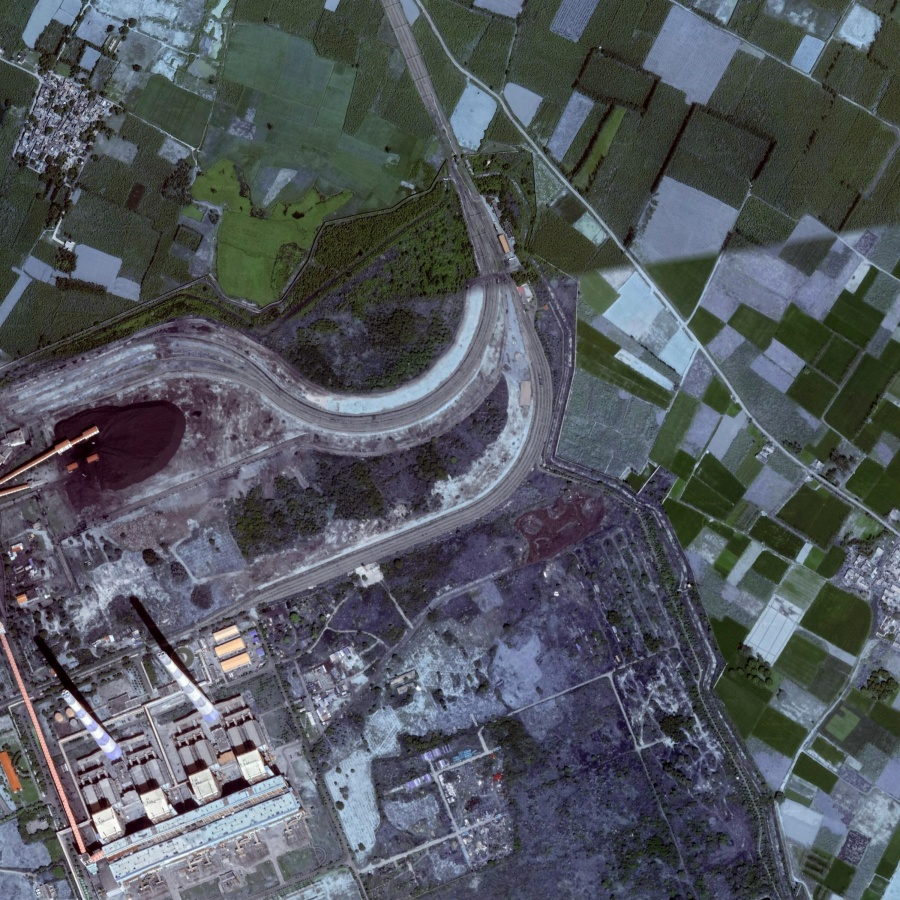PowerPlant: (23, 588, 260, 794)
